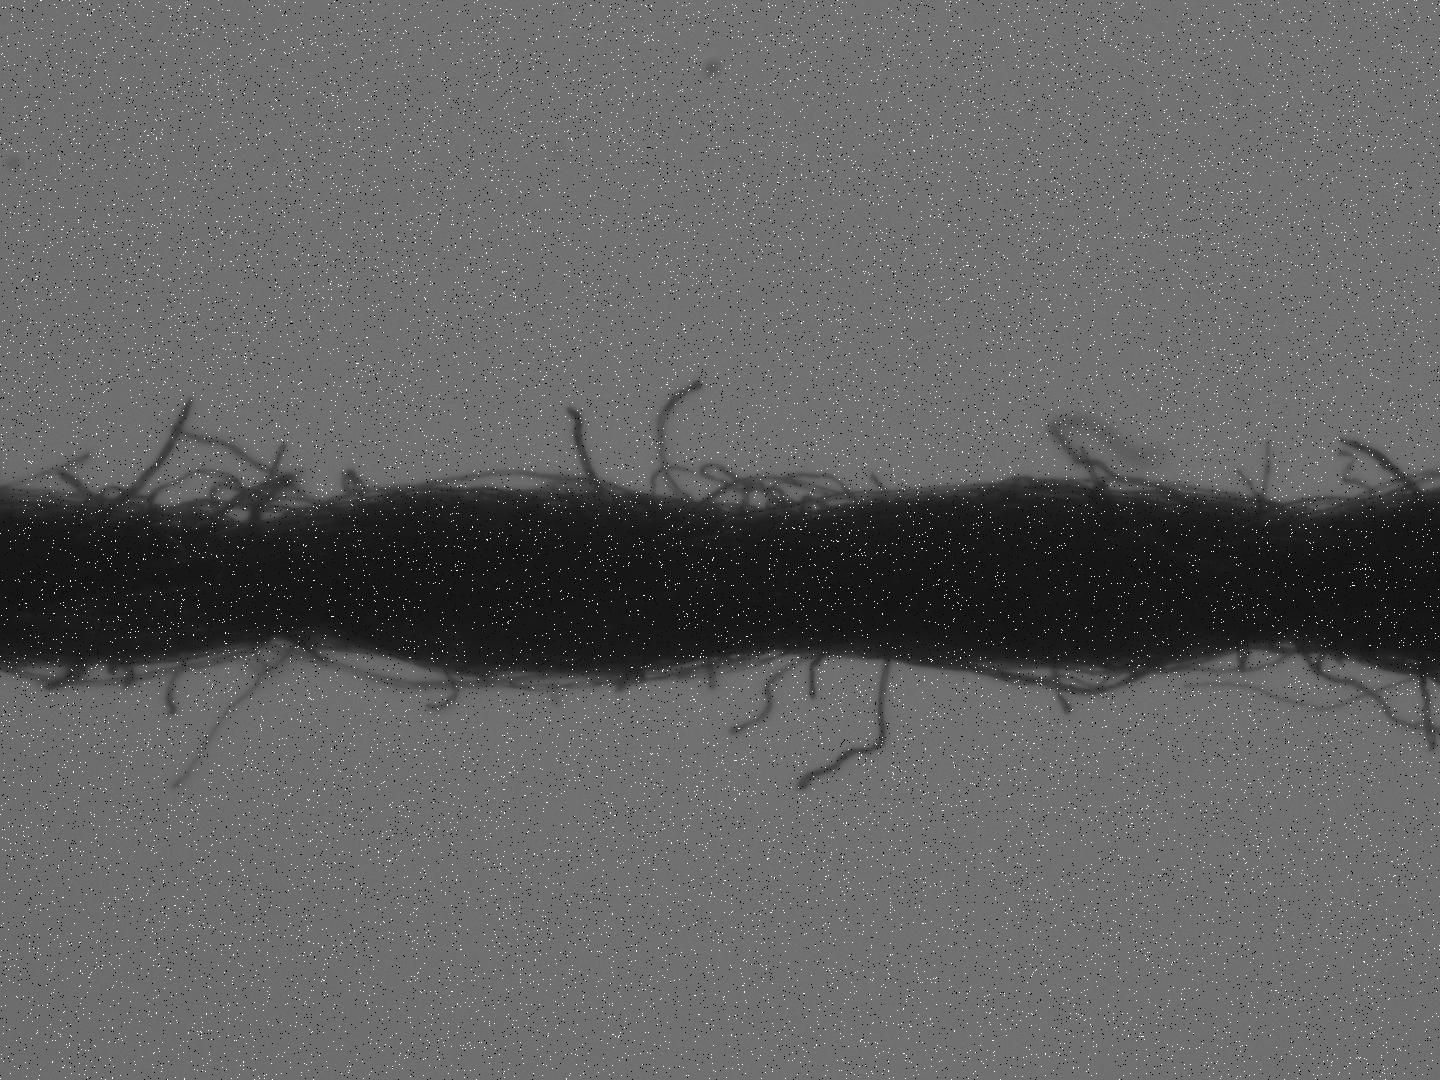loop_fiber: (310, 465, 655, 513), (291, 638, 539, 698), (6, 640, 268, 694), (680, 458, 862, 521), (949, 659, 1171, 701), (582, 650, 788, 691), (150, 464, 260, 531), (1171, 643, 1305, 681), (79, 479, 159, 517), (1272, 491, 1370, 518)
protruding_fiber: (796, 658, 893, 799), (803, 648, 831, 704)
